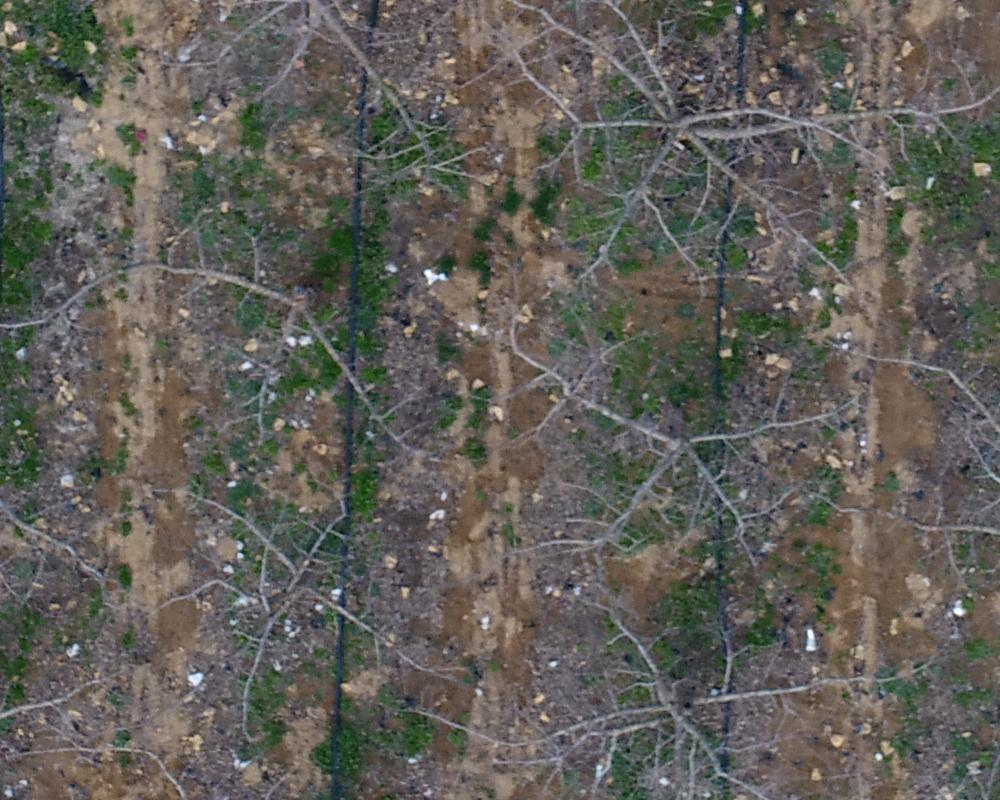apple: (456, 10, 990, 300), (473, 269, 873, 580), (10, 217, 453, 481), (414, 596, 933, 790), (157, 469, 466, 736), (182, 10, 488, 198)
